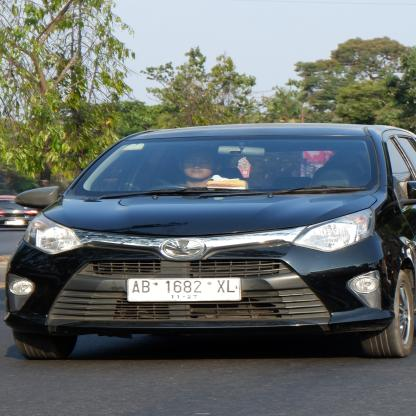Plat-Nomor: (126, 274, 244, 306)
